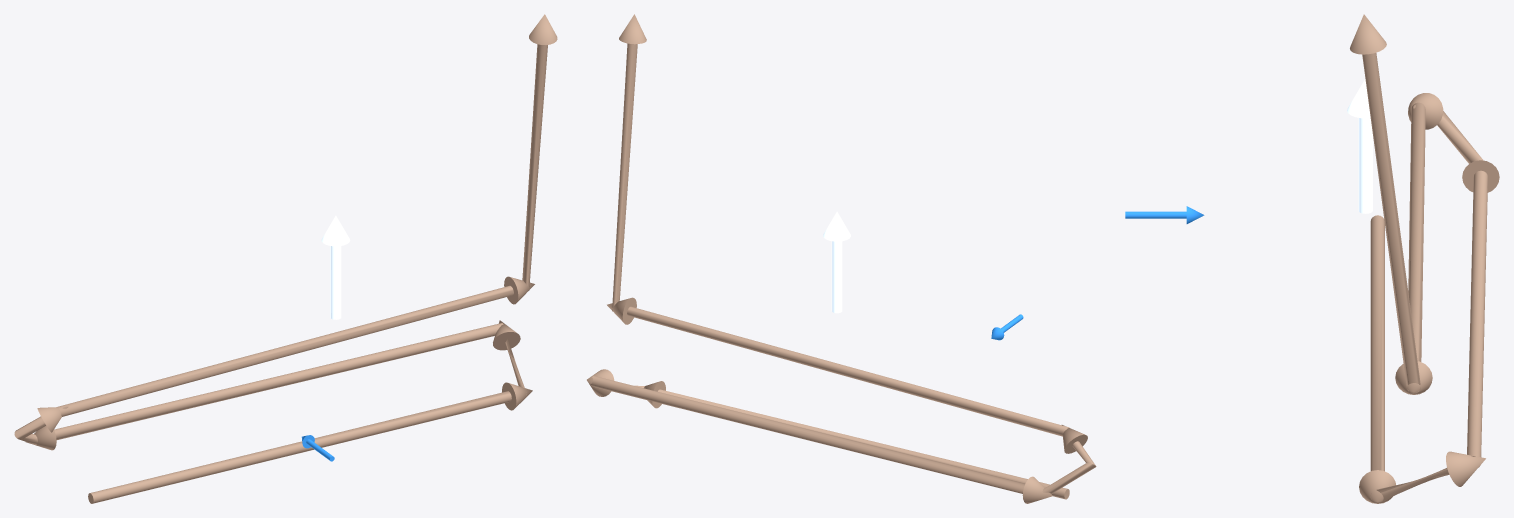
Rendered from steam_generator_flow.glb.
3 views of the same model, side by side, from view 1: azimuth 30°, elevation 25°; view 2: azimuth 150°, elevation 25°; view 3: azimuth 270°, elevation 25° (orthographic). The views are drawn at different scales.
Visible parts, largest first — view 1: flue_gas, steam; view 2: flue_gas, steam; view 3: flue_gas, steam, feedwater.
Boxes of the visible parts, x1,y1,x2,y2 form: flue_gas: [14, 14, 557, 503]; steam: [321, 215, 350, 319]; flue_gas: [587, 14, 1096, 503]; steam: [823, 211, 850, 313]; flue_gas: [1350, 14, 1499, 503]; steam: [1347, 79, 1384, 213]; feedwater: [1125, 206, 1204, 223].
Bounding box in the file's own units: 3.21 × 2.34 × 1.56.
